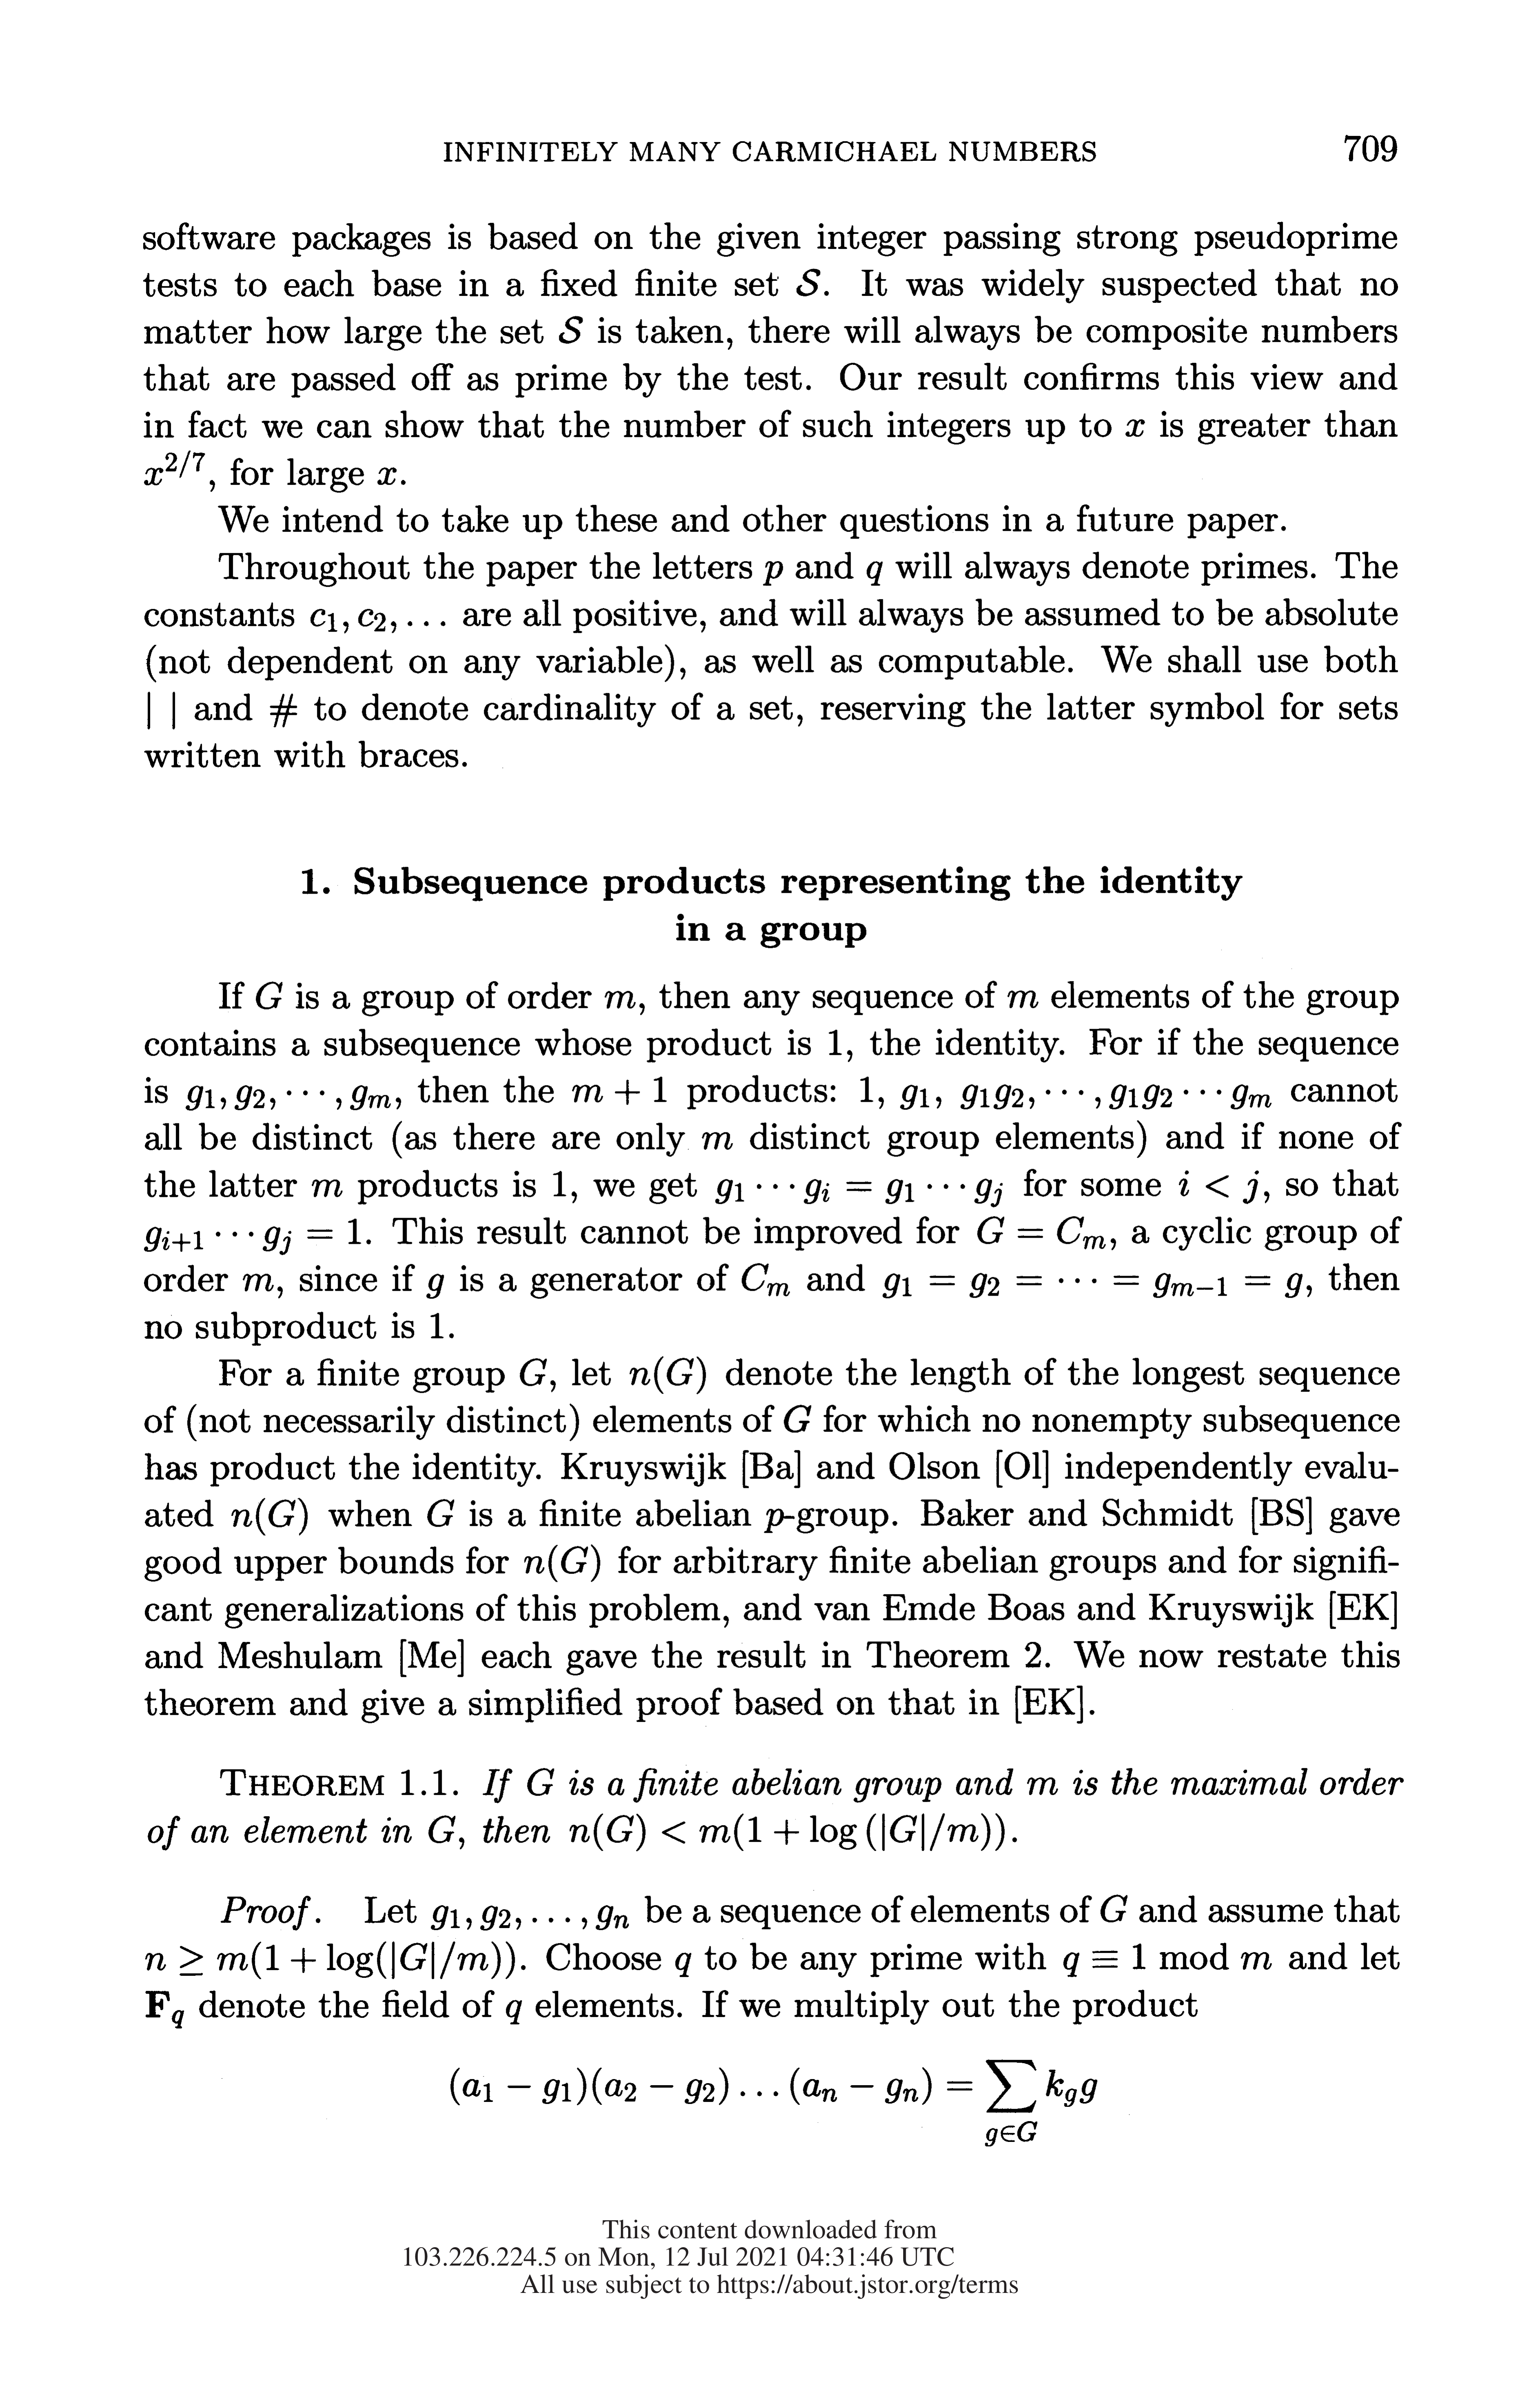maths: (451, 2059, 1096, 2146), (570, 1813, 1005, 1852), (146, 1941, 514, 1978), (882, 1272, 1301, 1299), (716, 1179, 1002, 1208), (144, 1218, 361, 1255), (977, 1216, 1105, 1250), (1109, 1085, 1272, 1109), (630, 1357, 705, 1394), (232, 1499, 307, 1536), (524, 1544, 600, 1581), (1179, 1171, 1259, 1204), (572, 1076, 667, 1104), (144, 451, 205, 484), (1159, 1943, 1230, 1969), (961, 1085, 1035, 1109), (742, 1264, 789, 1295), (146, 1990, 184, 2029), (1063, 1950, 1117, 1976), (147, 692, 175, 728), (900, 1085, 942, 1109), (288, 1090, 340, 1109), (186, 1085, 226, 1109), (235, 1085, 275, 1109), (351, 1085, 391, 1109), (431, 1906, 472, 1931), (481, 1906, 521, 1931), (1045, 1090, 1100, 1107), (310, 609, 349, 634), (358, 609, 396, 632), (270, 693, 296, 727), (526, 1767, 554, 1795), (596, 1906, 628, 1931), (256, 981, 282, 1009), (519, 1358, 545, 1387), (428, 1499, 454, 1527), (428, 1815, 454, 1843), (784, 1406, 810, 1432), (1102, 1896, 1128, 1922), (765, 1509, 795, 1532), (796, 269, 819, 297), (560, 316, 582, 344), (1007, 990, 1038, 1007), (242, 1274, 274, 1292), (533, 1918, 586, 1929), (702, 1132, 731, 1150), (312, 1179, 342, 1197), (1028, 1778, 1058, 1795), (1242, 1952, 1272, 1969), (605, 992, 635, 1007), (763, 562, 782, 584), (426, 1274, 444, 1299), (505, 1999, 521, 2024), (866, 562, 882, 584), (675, 1953, 691, 1976), (1126, 419, 1145, 437), (377, 467, 396, 484), (1133, 1943, 1145, 1969), (407, 621, 446, 625)
